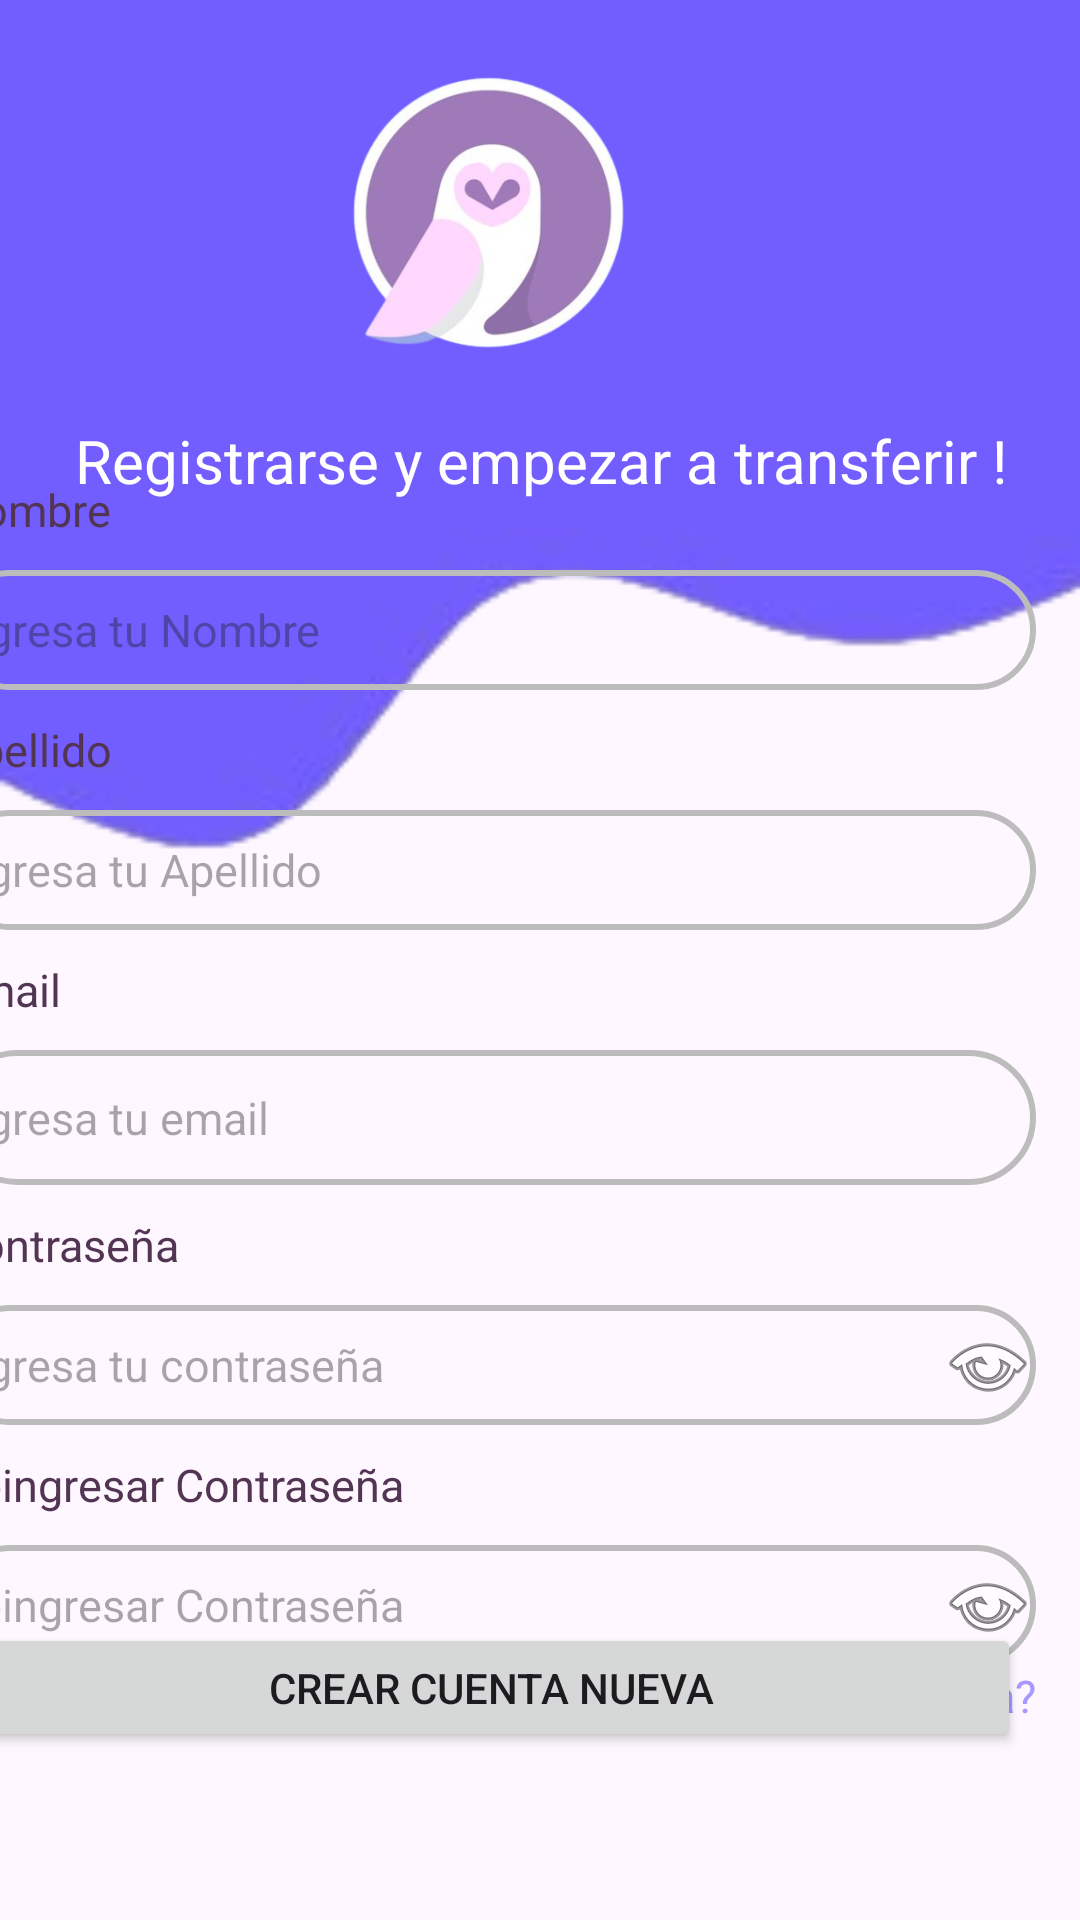

Where to tap for icons on this 1080*1920 app screen, as (x,y):
buho: (488,213)
